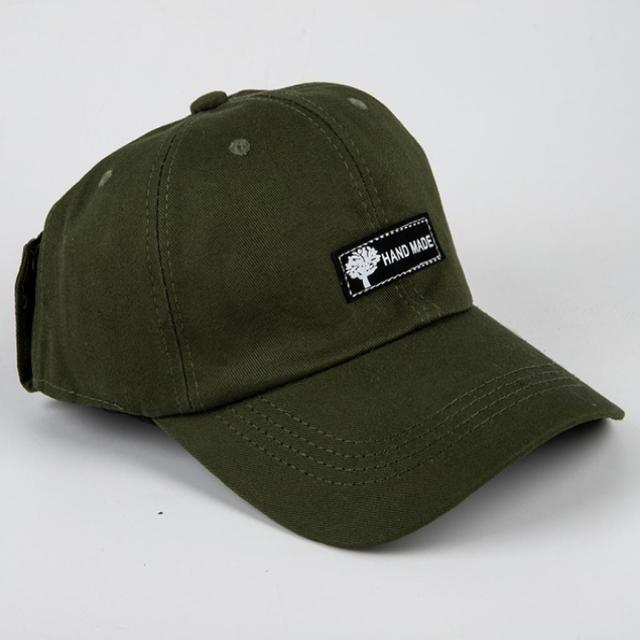Nonhelmet: (8, 66, 628, 559)
